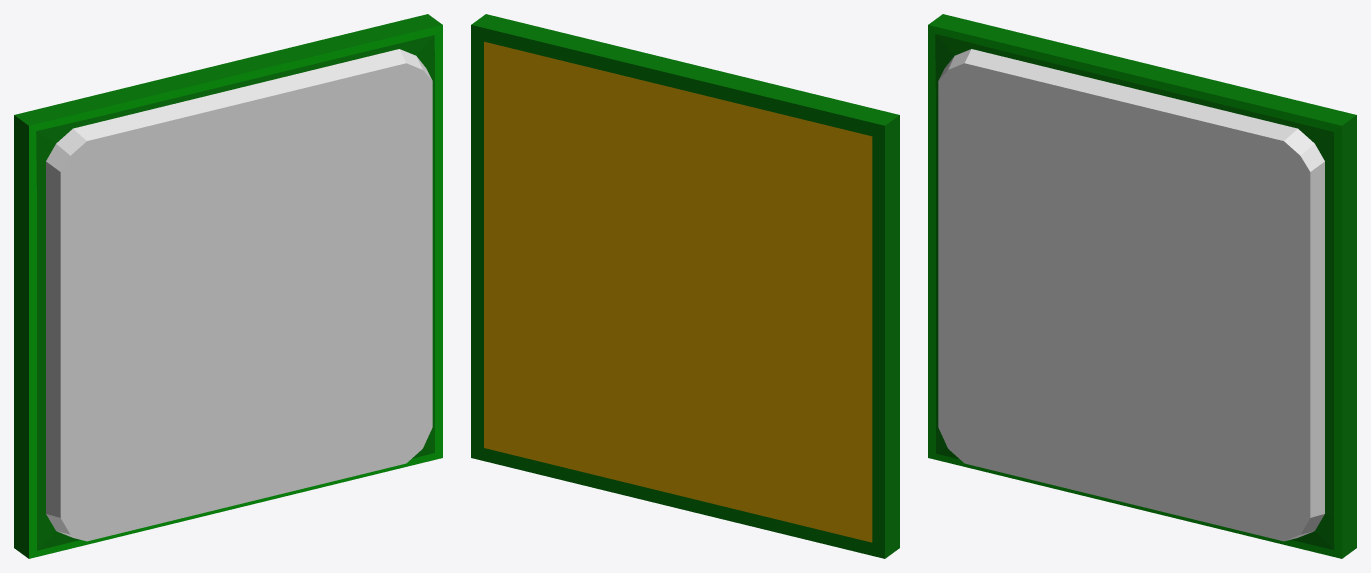
Rendered from s754-s939_1-amd.fbx.
3 views of the same model, side by side, from view 1: azimuth 30°, elevation 25°; view 2: azimuth 150°, elevation 25°; view 3: azimuth 330°, elevation 25° (orthographic).
Visible parts, largest first — view 1: Plane.001; view 2: Plane.001; view 3: Plane.001.
Boxes of the visible parts, x1,y1,x2,y2 form: Plane.001: [14, 14, 442, 558]; Plane.001: [471, 14, 899, 558]; Plane.001: [928, 14, 1356, 558].
Bounding box in the file's own units: 34.74 × 34.74 × 3.72.
